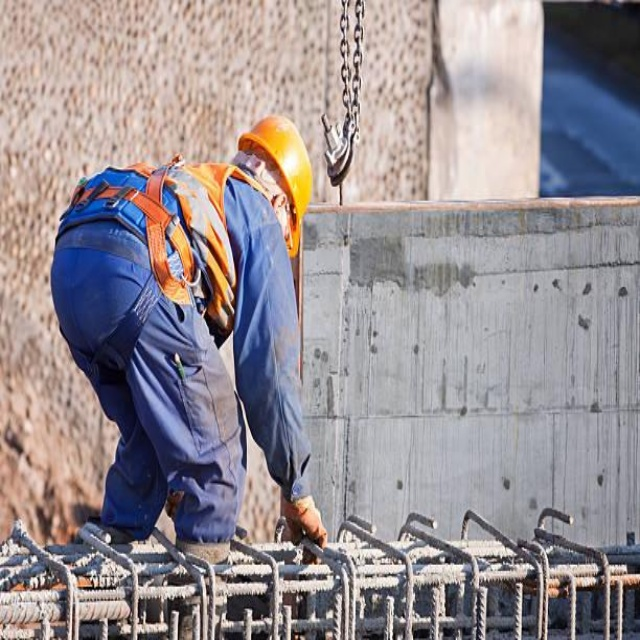Arnes_seguridad: (43, 156, 273, 390)
